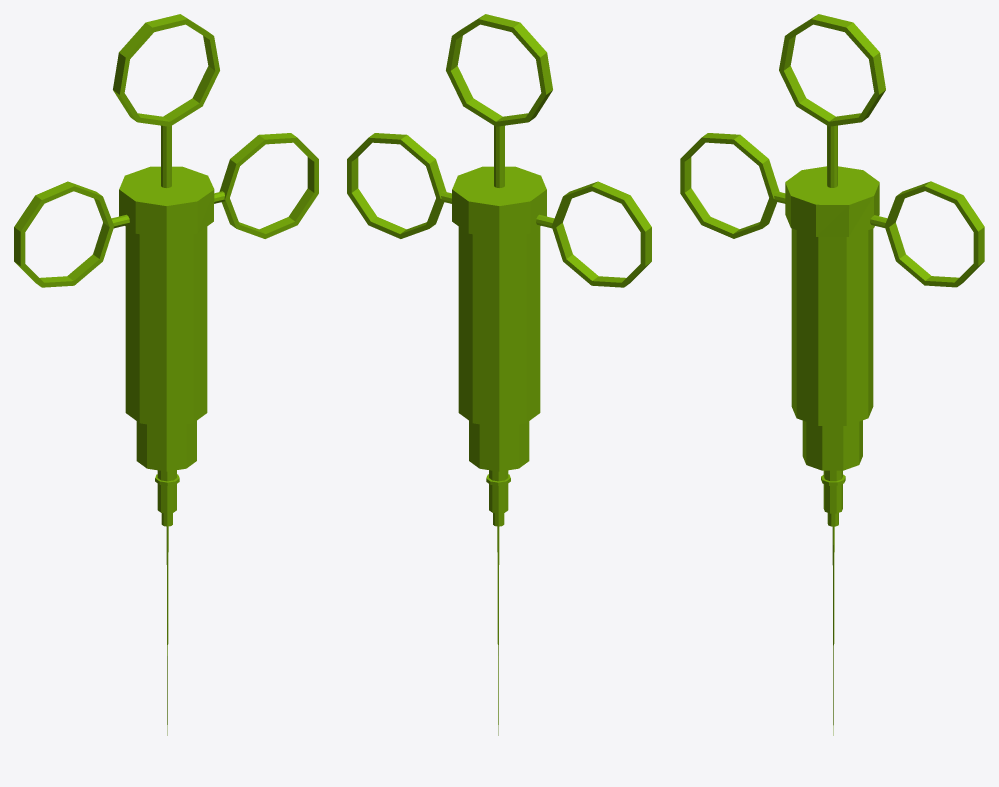
The model's file is seringue.fbx.
3 renders of one model, left to right at view 1: azimuth 30°, elevation 25°; view 2: azimuth 150°, elevation 25°; view 3: azimuth 330°, elevation 25°, orthographic.
Parts seen in each view (by area): view 1: seringue; view 2: seringue; view 3: seringue.
Part boxes in pixels (<box>): seringue: <box>14,14,318,735</box>; seringue: <box>347,14,651,735</box>; seringue: <box>680,14,984,735</box>.
Bounding box in the file's own units: 0.7664 × 1.85 × 0.2107.
